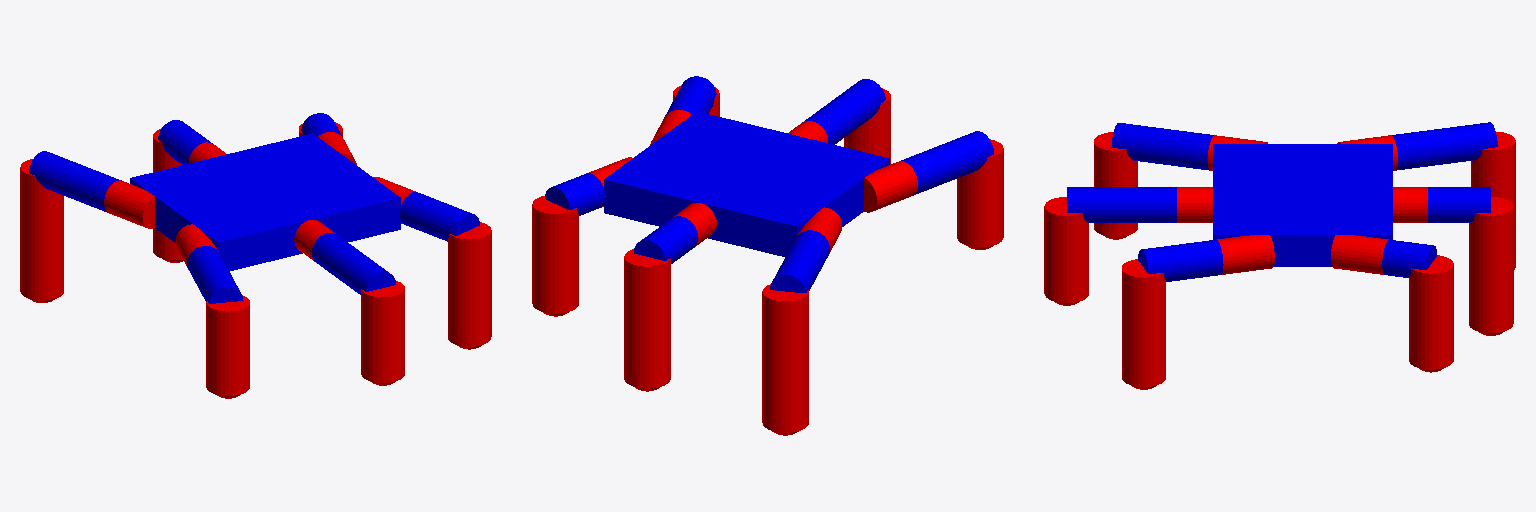
--- Facts derived from the render (not from the file) ---
3 views of the same robot in one strip: view 1: azimuth 30°, elevation 25°; view 2: azimuth 150°, elevation 25°; view 3: azimuth 270°, elevation 25° (orthographic).
Model pexod with 19 links and 18 joints (18 revolute), rooted at base_link, posed all joints at 0.
Visible links, largest first — view 1: base_link, leg_0_3, leg_3_3, leg_4_3, leg_5_3, leg_0_2, leg_4_2, leg_3_2, leg_5_2, leg_0_1, leg_1_2, leg_1_3 (+3 smaller); view 2: base_link, leg_0_3, leg_1_3, leg_2_3, leg_5_3, leg_5_2, leg_4_2, leg_0_2, leg_5_1, leg_1_2, leg_2_2, leg_4_3 (+3 smaller); view 3: base_link, leg_1_3, leg_3_3, leg_2_3, leg_4_3, leg_4_2, leg_0_2, leg_5_2, leg_3_2, leg_5_3, leg_0_3, leg_1_2 (+5 smaller).
Link boxes in pixels (x1,y1,x2,y2): base_link: (130,133,400,271); leg_0_3: (20,159,63,302); leg_3_3: (448,222,491,349); leg_4_3: (361,281,404,385); leg_5_3: (206,295,249,398); leg_0_2: (29,151,121,212); leg_4_2: (312,233,395,294); leg_3_2: (400,192,479,241); leg_5_2: (187,246,242,303); leg_0_1: (104,180,154,228); leg_1_2: (158,120,212,164); leg_1_3: (153,128,183,262); base_link: (604,111,889,256); leg_0_3: (762,284,808,435); leg_1_3: (624,249,670,391); leg_2_3: (532,196,578,316); leg_5_3: (957,139,1003,249); leg_5_2: (901,131,993,195); leg_4_2: (802,79,885,144); leg_0_2: (770,230,829,292); leg_5_1: (864,161,917,212); leg_1_2: (634,216,697,263); leg_2_2: (545,173,604,215); leg_4_3: (844,88,890,164); base_link: (1213,144,1392,266); leg_1_3: (1469,197,1513,335); leg_3_3: (1122,259,1165,389); leg_2_3: (1409,255,1453,372); leg_4_3: (1044,197,1088,305); leg_4_2: (1067,187,1176,222); leg_0_2: (1392,122,1497,170); leg_5_2: (1111,123,1213,170); leg_3_2: (1138,240,1223,281); leg_5_3: (1094,132,1137,239); leg_0_3: (1471,132,1515,269); leg_1_2: (1428,187,1490,222).
Bounding box of the posed robot: 0.3855 × 0.5251 × 0.1883 m (x, y, z).
Geometry: primitives only (box / cylinder / sphere), no mesh files.

URDF robot description (pexod):
<?xml version="1.0" ?>
<!-- =================================================================================== -->
<!-- |    This document was autogenerated by xacro from pexod.xacro                    | -->
<!-- |    EDITING THIS FILE BY HAND IS NOT RECOMMENDED                                 | -->
<!-- =================================================================================== -->
<robot name="pexod" xmlns:xacro="http://www.ros.org/wiki/xacro">
  <!-- <xacro:include filename="$(find pexod_description)/urdf/pexod_control.xacro" /> -->
  <!-- MATERIALS -->
  <material name="Blue">
    <color rgba="0 0 1 1"/>
  </material>
  <material name="Red">
    <color rgba="1 0 0 1"/>
  </material>
  <material name="Green">
    <color rgba="0 1 0 1"/>
  </material>
  <material name="Yellow">
    <color rgba="1 1 0 1"/>
  </material>
  <material name="LightGrey">
    <color rgba="0.6 0.6 0.6 1.0"/>
  </material>
  <!-- END OF MATERIALS -->
  <!-- XACRO MACROS FOR VISUALS AND COLLISIONS -->
  <!-- END OF XACRO MACROS -->
  <!-- TORSO -->
  <link name="base_link">
    <visual>
      <origin rpy="0 0 0" xyz="0 0 0"/>
      <geometry>
        <box size="0.24 0.2 0.04"/>
      </geometry>
      <material name="Blue"/>
    </visual>
    <collision>
      <origin rpy="0 0 0" xyz="0 0 0"/>
      <geometry>
        <box size="0.24 0.2 0.04"/>
      </geometry>
    </collision>
    <inertial>
      <!-- CENTER OF MASS -->
      <origin rpy="0 0 0" xyz="0 0 0"/>
      <mass value="1.031"/>
      <!-- box inertia: 1/12*m(y^2+z^2), ... -->
      <inertia ixx="0.00357413333333" ixy="0" ixz="0" iyy="0.00508626666667" iyz="0" izz="0.00838546666667"/>
    </inertial>
  </link>
  <!-- XACRO MACRO FOR LEGS LINKS/JOINTS -->
  <!-- END OF LEG LINKS/JOINTS -->
  <joint name="body_leg_2" type="revolute">
    <parent link="base_link"/>
    <child link="leg_2_1"/>
    <limit effort="30.0" lower="-1.57079632679" upper="1.57079632679" velocity="7.0"/>
    <origin rpy="0 0 -0.3" xyz="0.11 0.04 0"/>
    <!-- <xacro:if value="${index == 5 or index == 4 or index == 3}">
                <axis xyz="0 0 1"/>
            </xacro:if>
            <xacro:if value="${index == 2 or index == 1 or index == 0}"> -->
    <axis xyz="0 0 1"/>
    <!-- </xacro:if> -->
    <dynamics damping="0.0"/>
  </joint>
  <link name="leg_2_1">
    <visual>
      <origin rpy="1.57079632679 0 0" xyz="0.01 0.03 0"/>
      <geometry>
        <cylinder length="0.06" radius="0.02"/>
      </geometry>
      <material name="Red"/>
    </visual>
    <collision>
      <origin rpy="1.57079632679 0 0" xyz="0.01 0.03 0"/>
      <geometry>
        <box size="0.02 0.02 0.06"/>
      </geometry>
    </collision>
    <inertial>
      <!-- CENTER OF MASS -->
      <origin rpy="1.57079632679 0 0" xyz="0.01 0.03 0"/>
      <mass value="0.02"/>
      <!-- box inertia: 1/12*m(y^2+z^2), ... -->
      <inertia ixx="6.66666666667e-06" ixy="0" ixz="0" iyy="6.66666666667e-06" iyz="0" izz="1.33333333333e-06"/>
    </inertial>
  </link>
  <joint name="leg_2_1_2" type="revolute">
    <parent link="leg_2_1"/>
    <child link="leg_2_2"/>
    <limit effort="30.0" lower="-0.78539816339" upper="0.78539816339" velocity="7.0"/>
    <origin rpy="0 0 0" xyz="0 0.06 0"/>
    <axis xyz="1 0 0"/>
    <dynamics damping="0.0"/>
  </joint>
  <link name="leg_2_2">
    <visual>
      <origin rpy="1.57079632679 0 0" xyz="0.01 0.0259341840887 0"/>
      <geometry>
        <cylinder length="0.0518683681774" radius="0.02"/>
      </geometry>
      <material name="Blue"/>
    </visual>
    <collision>
      <origin rpy="1.57079632679 0 0" xyz="0.01 0.0259341840887 0"/>
      <geometry>
        <box size="0.02 0.02 0.0518683681774"/>
      </geometry>
    </collision>
    <inertial>
      <!-- CENTER OF MASS -->
      <origin rpy="1.57079632679 0 0" xyz="0.01 0.0259341840887 0"/>
      <mass value="0.184"/>
      <!-- box inertia: 1/12*m(y^2+z^2), ... -->
      <inertia ixx="4.73850234666e-05" ixy="0" ixz="0" iyy="4.73850234666e-05" iyz="0" izz="1.22666666667e-05"/>
    </inertial>
  </link>
  <joint name="leg_2_2_3" type="revolute">
    <parent link="leg_2_2"/>
    <child link="leg_2_3"/>
    <limit effort="30.0" lower="-0.78539816339" upper="0.78539816339" velocity="7.0"/>
    <origin rpy="-1.57079632679 0 0" xyz="0 0.0518683681774 0"/>
    <axis xyz="-1 0 0"/>
    <dynamics damping="0.0"/>
  </joint>
  <link name="leg_2_3">
    <visual>
      <origin rpy="1.57079632679 0 0" xyz="0.0125 0.059146130588 0"/>
      <geometry>
        <cylinder length="0.118292261176" radius="0.025"/>
      </geometry>
      <material name="Red"/>
    </visual>
    <visual>
      <origin rpy="1.57079632679 0 0" xyz="0.0125 0.105792261176 0"/>
      <geometry>
        <sphere radius="0.025"/>
      </geometry>
      <material name="Red"/>
    </visual>
    <collision>
      <origin rpy="1.57079632679 0 0" xyz="0.0125 0.059146130588 0"/>
      <geometry>
        <box size="0.025 0.025 0.118292261176"/>
      </geometry>
    </collision>
    <collision>
      <origin rpy="1.57079632679 0 0" xyz="0.0125 0.105792261176 0"/>
      <geometry>
        <sphere radius="0.025"/>
      </geometry>
      <material name="Red"/>
    </collision>
    <inertial>
      <!-- CENTER OF MASS -->
      <origin rpy="1.57079632679 0 0" xyz="0.0125 0.059146130588 0"/>
      <mass value="0.04"/>
      <!-- box inertia: 1/12*m(y^2+z^2), ... -->
      <inertia ixx="4.87268635138e-05" ixy="0" ixz="0" iyy="4.87268635138e-05" iyz="0" izz="4.16666666667e-06"/>
    </inertial>
  </link>
  <joint name="body_leg_3" type="revolute">
    <parent link="base_link"/>
    <child link="leg_3_1"/>
    <limit effort="30.0" lower="-1.57079632679" upper="1.57079632679" velocity="7.0"/>
    <origin rpy="0 0 0.3" xyz="0.11 -0.04 0"/>
    <!-- <xacro:if value="${index == 5 or index == 4 or index == 3}">
                <axis xyz="0 0 1"/>
            </xacro:if>
            <xacro:if value="${index == 2 or index == 1 or index == 0}"> -->
    <axis xyz="0 0 1"/>
    <!-- </xacro:if> -->
    <dynamics damping="0.0"/>
  </joint>
  <link name="leg_3_1">
    <visual>
      <origin rpy="1.57079632679 0 0" xyz="0.01 -0.03 0"/>
      <geometry>
        <cylinder length="0.06" radius="0.02"/>
      </geometry>
      <material name="Red"/>
    </visual>
    <collision>
      <origin rpy="1.57079632679 0 0" xyz="0.01 -0.03 0"/>
      <geometry>
        <box size="0.02 0.02 0.06"/>
      </geometry>
    </collision>
    <inertial>
      <!-- CENTER OF MASS -->
      <origin rpy="1.57079632679 0 0" xyz="0.01 -0.03 0"/>
      <mass value="0.02"/>
      <!-- box inertia: 1/12*m(y^2+z^2), ... -->
      <inertia ixx="6.66666666667e-06" ixy="0" ixz="0" iyy="6.66666666667e-06" iyz="0" izz="1.33333333333e-06"/>
    </inertial>
  </link>
  <joint name="leg_3_1_2" type="revolute">
    <parent link="leg_3_1"/>
    <child link="leg_3_2"/>
    <limit effort="30.0" lower="-0.78539816339" upper="0.78539816339" velocity="7.0"/>
    <origin rpy="0 0 0" xyz="0 -0.06 0"/>
    <axis xyz="-1 0 0"/>
    <dynamics damping="0.0"/>
  </joint>
  <link name="leg_3_2">
    <visual>
      <origin rpy="1.57079632679 0 0" xyz="0.01 -0.043702934826 0"/>
      <geometry>
        <cylinder length="0.0874058696519" radius="0.02"/>
      </geometry>
      <material name="Blue"/>
    </visual>
    <collision>
      <origin rpy="1.57079632679 0 0" xyz="0.01 -0.043702934826 0"/>
      <geometry>
        <box size="0.02 0.02 0.0874058696519"/>
      </geometry>
    </collision>
    <inertial>
      <!-- CENTER OF MASS -->
      <origin rpy="1.57079632679 0 0" xyz="0.01 -0.043702934826 0"/>
      <mass value="0.184"/>
      <!-- box inertia: 1/12*m(y^2+z^2), ... -->
      <inertia ixx="0.000123276719427" ixy="0" ixz="0" iyy="0.000123276719427" iyz="0" izz="1.22666666667e-05"/>
    </inertial>
  </link>
  <joint name="leg_3_2_3" type="revolute">
    <parent link="leg_3_2"/>
    <child link="leg_3_3"/>
    <limit effort="30.0" lower="-0.78539816339" upper="0.78539816339" velocity="7.0"/>
    <origin rpy="1.57079632679 0 0" xyz="0 -0.0874058696519 0"/>
    <axis xyz="1 0 0"/>
    <dynamics damping="0.0"/>
  </joint>
  <link name="leg_3_3">
    <visual>
      <origin rpy="1.57079632679 0 0" xyz="0.0125 -0.0673524930085 0"/>
      <geometry>
        <cylinder length="0.134704986017" radius="0.025"/>
      </geometry>
      <material name="Red"/>
    </visual>
    <visual>
      <origin rpy="1.57079632679 0 0" xyz="0.0125 -0.122204986017 0"/>
      <geometry>
        <sphere radius="0.025"/>
      </geometry>
      <material name="Red"/>
    </visual>
    <collision>
      <origin rpy="1.57079632679 0 0" xyz="0.0125 -0.0673524930085 0"/>
      <geometry>
        <box size="0.025 0.025 0.134704986017"/>
      </geometry>
    </collision>
    <collision>
      <origin rpy="1.57079632679 0 0" xyz="0.0125 -0.122204986017 0"/>
      <geometry>
        <sphere radius="0.025"/>
      </geometry>
      <material name="Red"/>
    </collision>
    <inertial>
      <!-- CENTER OF MASS -->
      <origin rpy="1.57079632679 0 0" xyz="0.0125 -0.0673524930085 0"/>
      <mass value="0.04"/>
      <!-- box inertia: 1/12*m(y^2+z^2), ... -->
      <inertia ixx="6.25681108595e-05" ixy="0" ixz="0" iyy="6.25681108595e-05" iyz="0" izz="4.16666666667e-06"/>
    </inertial>
  </link>
  <joint name="body_leg_0" type="revolute">
    <parent link="base_link"/>
    <child link="leg_0_1"/>
    <limit effort="30.0" lower="-1.57079632679" upper="1.57079632679" velocity="7.0"/>
    <origin rpy="0 0 0.3" xyz="-0.13 0.04 0"/>
    <!-- <xacro:if value="${index == 5 or index == 4 or index == 3}">
                <axis xyz="0 0 1"/>
            </xacro:if>
            <xacro:if value="${index == 2 or index == 1 or index == 0}"> -->
    <axis xyz="0 0 1"/>
    <!-- </xacro:if> -->
    <dynamics damping="0.0"/>
  </joint>
  <link name="leg_0_1">
    <visual>
      <origin rpy="1.57079632679 0 0" xyz="0.01 0.03 0"/>
      <geometry>
        <cylinder length="0.06" radius="0.02"/>
      </geometry>
      <material name="Red"/>
    </visual>
    <collision>
      <origin rpy="1.57079632679 0 0" xyz="0.01 0.03 0"/>
      <geometry>
        <box size="0.02 0.02 0.06"/>
      </geometry>
    </collision>
    <inertial>
      <!-- CENTER OF MASS -->
      <origin rpy="1.57079632679 0 0" xyz="0.01 0.03 0"/>
      <mass value="0.02"/>
      <!-- box inertia: 1/12*m(y^2+z^2), ... -->
      <inertia ixx="6.66666666667e-06" ixy="0" ixz="0" iyy="6.66666666667e-06" iyz="0" izz="1.33333333333e-06"/>
    </inertial>
  </link>
  <joint name="leg_0_1_2" type="revolute">
    <parent link="leg_0_1"/>
    <child link="leg_0_2"/>
    <limit effort="30.0" lower="-0.78539816339" upper="0.78539816339" velocity="7.0"/>
    <origin rpy="0 0 0" xyz="0 0.06 0"/>
    <axis xyz="1 0 0"/>
    <dynamics damping="0.0"/>
  </joint>
  <link name="leg_0_2">
    <visual>
      <origin rpy="1.57079632679 0 0" xyz="0.01 0.058173503414 0"/>
      <geometry>
        <cylinder length="0.116347006828" radius="0.02"/>
      </geometry>
      <material name="Blue"/>
    </visual>
    <collision>
      <origin rpy="1.57079632679 0 0" xyz="0.01 0.058173503414 0"/>
      <geometry>
        <box size="0.02 0.02 0.116347006828"/>
      </geometry>
    </collision>
    <inertial>
      <!-- CENTER OF MASS -->
      <origin rpy="1.57079632679 0 0" xyz="0.01 0.058173503414 0"/>
      <mass value="0.184"/>
      <!-- box inertia: 1/12*m(y^2+z^2), ... -->
      <inertia ixx="0.000213694931967" ixy="0" ixz="0" iyy="0.000213694931967" iyz="0" izz="1.22666666667e-05"/>
    </inertial>
  </link>
  <joint name="leg_0_2_3" type="revolute">
    <parent link="leg_0_2"/>
    <child link="leg_0_3"/>
    <limit effort="30.0" lower="-0.78539816339" upper="0.78539816339" velocity="7.0"/>
    <origin rpy="-1.57079632679 0 0" xyz="0 0.116347006828 0"/>
    <axis xyz="-1 0 0"/>
    <dynamics damping="0.0"/>
  </joint>
  <link name="leg_0_3">
    <visual>
      <origin rpy="1.57079632679 0 0" xyz="0.0125 0.0779083873815 0"/>
      <geometry>
        <cylinder length="0.155816774763" radius="0.025"/>
      </geometry>
      <material name="Red"/>
    </visual>
    <visual>
      <origin rpy="1.57079632679 0 0" xyz="0.0125 0.143316774763 0"/>
      <geometry>
        <sphere radius="0.025"/>
      </geometry>
      <material name="Red"/>
    </visual>
    <collision>
      <origin rpy="1.57079632679 0 0" xyz="0.0125 0.0779083873815 0"/>
      <geometry>
        <box size="0.025 0.025 0.155816774763"/>
      </geometry>
    </collision>
    <collision>
      <origin rpy="1.57079632679 0 0" xyz="0.0125 0.143316774763 0"/>
      <geometry>
        <sphere radius="0.025"/>
      </geometry>
      <material name="Red"/>
    </collision>
    <inertial>
      <!-- CENTER OF MASS -->
      <origin rpy="1.57079632679 0 0" xyz="0.0125 0.0779083873815 0"/>
      <mass value="0.04"/>
      <!-- box inertia: 1/12*m(y^2+z^2), ... -->
      <inertia ixx="8.30128909918e-05" ixy="0" ixz="0" iyy="8.30128909918e-05" iyz="0" izz="4.16666666667e-06"/>
    </inertial>
  </link>
  <joint name="body_leg_5" type="revolute">
    <parent link="base_link"/>
    <child link="leg_5_1"/>
    <limit effort="30.0" lower="-1.57079632679" upper="1.57079632679" velocity="7.0"/>
    <origin rpy="0 0 -0.3" xyz="-0.13 -0.04 0"/>
    <!-- <xacro:if value="${index == 5 or index == 4 or index == 3}">
                <axis xyz="0 0 1"/>
            </xacro:if>
            <xacro:if value="${index == 2 or index == 1 or index == 0}"> -->
    <axis xyz="0 0 1"/>
    <!-- </xacro:if> -->
    <dynamics damping="0.0"/>
  </joint>
  <link name="leg_5_1">
    <visual>
      <origin rpy="1.57079632679 0 0" xyz="0.01 -0.03 0"/>
      <geometry>
        <cylinder length="0.06" radius="0.02"/>
      </geometry>
      <material name="Red"/>
    </visual>
    <collision>
      <origin rpy="1.57079632679 0 0" xyz="0.01 -0.03 0"/>
      <geometry>
        <box size="0.02 0.02 0.06"/>
      </geometry>
    </collision>
    <inertial>
      <!-- CENTER OF MASS -->
      <origin rpy="1.57079632679 0 0" xyz="0.01 -0.03 0"/>
      <mass value="0.02"/>
      <!-- box inertia: 1/12*m(y^2+z^2), ... -->
      <inertia ixx="6.66666666667e-06" ixy="0" ixz="0" iyy="6.66666666667e-06" iyz="0" izz="1.33333333333e-06"/>
    </inertial>
  </link>
  <joint name="leg_5_1_2" type="revolute">
    <parent link="leg_5_1"/>
    <child link="leg_5_2"/>
    <limit effort="30.0" lower="-0.78539816339" upper="0.78539816339" velocity="7.0"/>
    <origin rpy="0 0 0" xyz="0 -0.06 0"/>
    <axis xyz="-1 0 0"/>
    <dynamics damping="0.0"/>
  </joint>
  <link name="leg_5_2">
    <visual>
      <origin rpy="1.57079632679 0 0" xyz="0.01 -0.056093882619 0"/>
      <geometry>
        <cylinder length="0.112187765238" radius="0.02"/>
      </geometry>
      <material name="Blue"/>
    </visual>
    <collision>
      <origin rpy="1.57079632679 0 0" xyz="0.01 -0.056093882619 0"/>
      <geometry>
        <box size="0.02 0.02 0.112187765238"/>
      </geometry>
    </collision>
    <inertial>
      <!-- CENTER OF MASS -->
      <origin rpy="1.57079632679 0 0" xyz="0.01 -0.056093882619 0"/>
      <mass value="0.184"/>
      <!-- box inertia: 1/12*m(y^2+z^2), ... -->
      <inertia ixx="0.000199120118259" ixy="0" ixz="0" iyy="0.000199120118259" iyz="0" izz="1.22666666667e-05"/>
    </inertial>
  </link>
  <joint name="leg_5_2_3" type="revolute">
    <parent link="leg_5_2"/>
    <child link="leg_5_3"/>
    <limit effort="30.0" lower="-0.78539816339" upper="0.78539816339" velocity="7.0"/>
    <origin rpy="1.57079632679 0 0" xyz="0 -0.112187765238 0"/>
    <axis xyz="1 0 0"/>
    <dynamics damping="0.0"/>
  </joint>
  <link name="leg_5_3">
    <visual>
      <origin rpy="1.57079632679 0 0" xyz="0.0125 -0.052988468864 0"/>
      <geometry>
        <cylinder length="0.105976937728" radius="0.025"/>
      </geometry>
      <material name="Red"/>
    </visual>
    <visual>
      <origin rpy="1.57079632679 0 0" xyz="0.0125 -0.093476937728 0"/>
      <geometry>
        <sphere radius="0.025"/>
      </geometry>
      <material name="Red"/>
    </visual>
    <collision>
      <origin rpy="1.57079632679 0 0" xyz="0.0125 -0.052988468864 0"/>
      <geometry>
        <box size="0.025 0.025 0.105976937728"/>
      </geometry>
    </collision>
    <collision>
      <origin rpy="1.57079632679 0 0" xyz="0.0125 -0.093476937728 0"/>
      <geometry>
        <sphere radius="0.025"/>
      </geometry>
      <material name="Red"/>
    </collision>
    <inertial>
      <!-- CENTER OF MASS -->
      <origin rpy="1.57079632679 0 0" xyz="0.0125 -0.052988468864 0"/>
      <mass value="0.04"/>
      <!-- box inertia: 1/12*m(y^2+z^2), ... -->
      <inertia ixx="3.95203711007e-05" ixy="0" ixz="0" iyy="3.95203711007e-05" iyz="0" izz="4.16666666667e-06"/>
    </inertial>
  </link>
  <joint name="body_leg_1" type="revolute">
    <parent link="base_link"/>
    <child link="leg_1_1"/>
    <limit effort="30.0" lower="-1.57079632679" upper="1.57079632679" velocity="7.0"/>
    <origin rpy="0 0 0" xyz="-0.01 0.08 0"/>
    <!-- <xacro:if value="${index == 5 or index == 4 or index == 3}">
                <axis xyz="0 0 1"/>
            </xacro:if>
            <xacro:if value="${index == 2 or index == 1 or index == 0}"> -->
    <axis xyz="0 0 1"/>
    <!-- </xacro:if> -->
    <dynamics damping="0.0"/>
  </joint>
  <link name="leg_1_1">
    <visual>
      <origin rpy="1.57079632679 0 0" xyz="0.01 0.03 0"/>
      <geometry>
        <cylinder length="0.06" radius="0.02"/>
      </geometry>
      <material name="Red"/>
    </visual>
    <collision>
      <origin rpy="1.57079632679 0 0" xyz="0.01 0.03 0"/>
      <geometry>
        <box size="0.02 0.02 0.06"/>
      </geometry>
    </collision>
    <inertial>
      <!-- CENTER OF MASS -->
      <origin rpy="1.57079632679 0 0" xyz="0.01 0.03 0"/>
      <mass value="0.02"/>
      <!-- box inertia: 1/12*m(y^2+z^2), ... -->
      <inertia ixx="6.66666666667e-06" ixy="0" ixz="0" iyy="6.66666666667e-06" iyz="0" izz="1.33333333333e-06"/>
    </inertial>
  </link>
  <joint name="leg_1_1_2" type="revolute">
    <parent link="leg_1_1"/>
    <child link="leg_1_2"/>
    <limit effort="30.0" lower="-0.78539816339" upper="0.78539816339" velocity="7.0"/>
    <origin rpy="0 0 0" xyz="0 0.06 0"/>
    <axis xyz="1 0 0"/>
    <dynamics damping="0.0"/>
  </joint>
  <link name="leg_1_2">
    <visual>
      <origin rpy="1.57079632679 0 0" xyz="0.01 0.0349809023494 0"/>
      <geometry>
        <cylinder length="0.0699618046989" radius="0.02"/>
      </geometry>
      <material name="Blue"/>
    </visual>
    <collision>
      <origin rpy="1.57079632679 0 0" xyz="0.01 0.0349809023494 0"/>
      <geometry>
        <box size="0.02 0.02 0.0699618046989"/>
      </geometry>
    </collision>
    <inertial>
      <!-- CENTER OF MASS -->
      <origin rpy="1.57079632679 0 0" xyz="0.01 0.0349809023494 0"/>
      <mass value="0.184"/>
      <!-- box inertia: 1/12*m(y^2+z^2), ... -->
      <inertia ixx="8.11846964565e-05" ixy="0" ixz="0" iyy="8.11846964565e-05" iyz="0" izz="1.22666666667e-05"/>
    </inertial>
  </link>
  <joint name="leg_1_2_3" type="revolute">
    <parent link="leg_1_2"/>
    <child link="leg_1_3"/>
    <limit effort="30.0" lower="-0.78539816339" upper="0.78539816339" velocity="7.0"/>
    <origin rpy="-1.57079632679 0 0" xyz="0 0.0699618046989 0"/>
    <axis xyz="-1 0 0"/>
    <dynamics damping="0.0"/>
  </joint>
  <link name="leg_1_3">
    <visual>
      <origin rpy="1.57079632679 0 0" xyz="0.0125 0.072308747604 0"/>
      <geometry>
        <cylinder length="0.144617495208" radius="0.025"/>
      </geometry>
      <material name="Red"/>
    </visual>
    <visual>
      <origin rpy="1.57079632679 0 0" xyz="0.0125 0.132117495208 0"/>
      <geometry>
        <sphere radius="0.025"/>
      </geometry>
      <material name="Red"/>
    </visual>
    <collision>
      <origin rpy="1.57079632679 0 0" xyz="0.0125 0.072308747604 0"/>
      <geometry>
        <box size="0.025 0.025 0.144617495208"/>
      </geometry>
    </collision>
    <collision>
      <origin rpy="1.57079632679 0 0" xyz="0.0125 0.132117495208 0"/>
      <geometry>
        <sphere radius="0.025"/>
      </geometry>
      <material name="Red"/>
    </collision>
    <inertial>
      <!-- CENTER OF MASS -->
      <origin rpy="1.57079632679 0 0" xyz="0.0125 0.072308747604 0"/>
      <mass value="0.04"/>
      <!-- box inertia: 1/12*m(y^2+z^2), ... -->
      <inertia ixx="7.17973997341e-05" ixy="0" ixz="0" iyy="7.17973997341e-05" iyz="0" izz="4.16666666667e-06"/>
    </inertial>
  </link>
  <joint name="body_leg_4" type="revolute">
    <parent link="base_link"/>
    <child link="leg_4_1"/>
    <limit effort="30.0" lower="-1.57079632679" upper="1.57079632679" velocity="7.0"/>
    <origin rpy="0 0 0" xyz="-0.01 -0.08 0"/>
    <!-- <xacro:if value="${index == 5 or index == 4 or index == 3}">
                <axis xyz="0 0 1"/>
            </xacro:if>
            <xacro:if value="${index == 2 or index == 1 or index == 0}"> -->
    <axis xyz="0 0 1"/>
    <!-- </xacro:if> -->
    <dynamics damping="0.0"/>
  </joint>
  <link name="leg_4_1">
    <visual>
      <origin rpy="1.57079632679 0 0" xyz="0.01 -0.03 0"/>
      <geometry>
        <cylinder length="0.06" radius="0.02"/>
      </geometry>
      <material name="Red"/>
    </visual>
    <collision>
      <origin rpy="1.57079632679 0 0" xyz="0.01 -0.03 0"/>
      <geometry>
        <box size="0.02 0.02 0.06"/>
      </geometry>
    </collision>
    <inertial>
      <!-- CENTER OF MASS -->
      <origin rpy="1.57079632679 0 0" xyz="0.01 -0.03 0"/>
      <mass value="0.02"/>
      <!-- box inertia: 1/12*m(y^2+z^2), ... -->
      <inertia ixx="6.66666666667e-06" ixy="0" ixz="0" iyy="6.66666666667e-06" iyz="0" izz="1.33333333333e-06"/>
    </inertial>
  </link>
  <joint name="leg_4_1_2" type="revolute">
    <parent link="leg_4_1"/>
    <child link="leg_4_2"/>
    <limit effort="30.0" lower="-0.78539816339" upper="0.78539816339" velocity="7.0"/>
    <origin rpy="0 0 0" xyz="0 -0.06 0"/>
    <axis xyz="-1 0 0"/>
    <dynamics damping="0.0"/>
  </joint>
  <link name="leg_4_2">
    <visual>
      <origin rpy="1.57079632679 0 0" xyz="0.01 -0.061528588416 0"/>
      <geometry>
        <cylinder length="0.123057176832" radius="0.02"/>
      </geometry>
      <material name="Blue"/>
    </visual>
    <collision>
      <origin rpy="1.57079632679 0 0" xyz="0.01 -0.061528588416 0"/>
      <geometry>
        <box size="0.02 0.02 0.123057176832"/>
      </geometry>
    </collision>
    <inertial>
      <!-- CENTER OF MASS -->
      <origin rpy="1.57079632679 0 0" xyz="0.01 -0.061528588416 0"/>
      <mass value="0.184"/>
      <!-- box inertia: 1/12*m(y^2+z^2), ... -->
      <inertia ixx="0.000238327054471" ixy="0" ixz="0" iyy="0.000238327054471" iyz="0" izz="1.22666666667e-05"/>
    </inertial>
  </link>
  <joint name="leg_4_2_3" type="revolute">
    <parent link="leg_4_2"/>
    <child link="leg_4_3"/>
    <limit effort="30.0" lower="-0.78539816339" upper="0.78539816339" velocity="7.0"/>
    <origin rpy="1.57079632679 0 0" xyz="0 -0.123057176832 0"/>
    <axis xyz="1 0 0"/>
    <dynamics damping="0.0"/>
  </joint>
  <link name="leg_4_3">
    <visual>
      <origin rpy="1.57079632679 0 0" xyz="0.0125 -0.053757909683 0"/>
      <geometry>
        <cylinder length="0.107515819366" radius="0.025"/>
      </geometry>
      <material name="Red"/>
    </visual>
    <visual>
      <origin rpy="1.57079632679 0 0" xyz="0.0125 -0.095015819366 0"/>
      <geometry>
        <sphere radius="0.025"/>
      </geometry>
      <material name="Red"/>
    </visual>
    <collision>
      <origin rpy="1.57079632679 0 0" xyz="0.0125 -0.053757909683 0"/>
      <geometry>
        <box size="0.025 0.025 0.107515819366"/>
      </geometry>
    </collision>
    <collision>
      <origin rpy="1.57079632679 0 0" xyz="0.0125 -0.095015819366 0"/>
      <geometry>
        <sphere radius="0.025"/>
      </geometry>
      <material name="Red"/>
    </collision>
    <inertial>
      <!-- CENTER OF MASS -->
      <origin rpy="1.57079632679 0 0" xyz="0.0125 -0.053757909683 0"/>
      <mass value="0.04"/>
      <!-- box inertia: 1/12*m(y^2+z^2), ... -->
      <inertia ixx="4.06155047131e-05" ixy="0" ixz="0" iyy="4.06155047131e-05" iyz="0" izz="4.16666666667e-06"/>
    </inertial>
  </link>
  <!-- END OF LEG LINKS/JOINTS -->
</robot>
